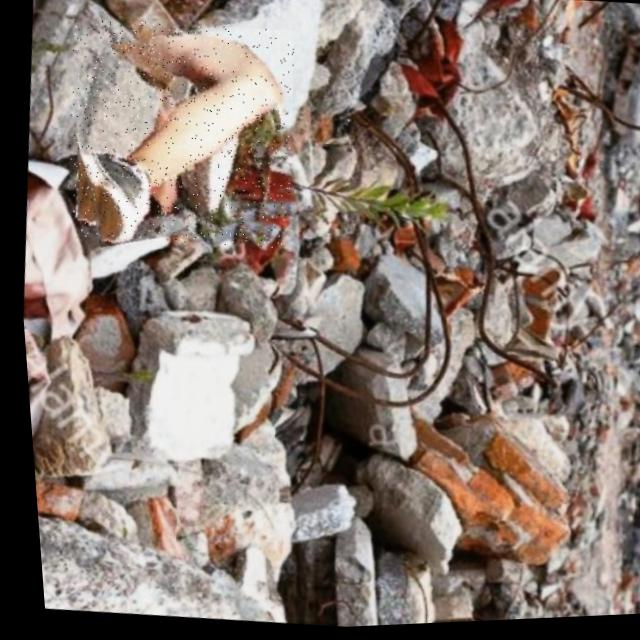Person in Rubble: (48, 10, 305, 258)
